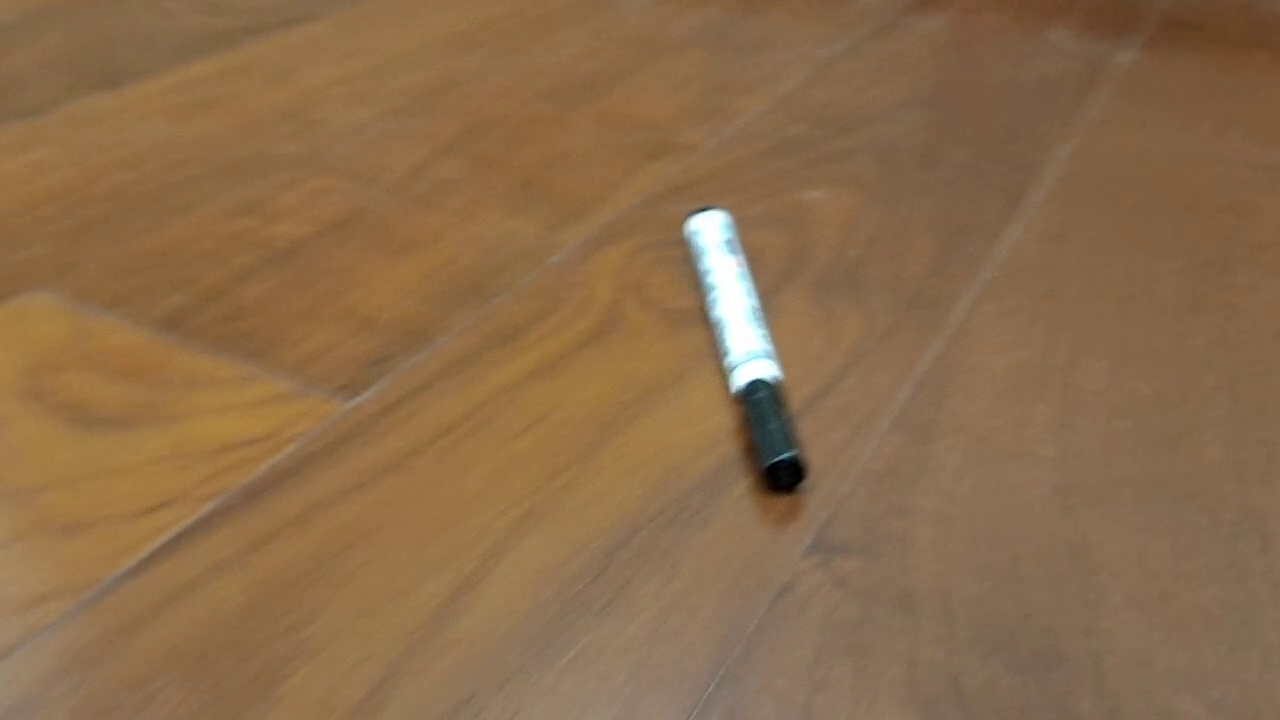pen: (681, 205, 809, 496)
